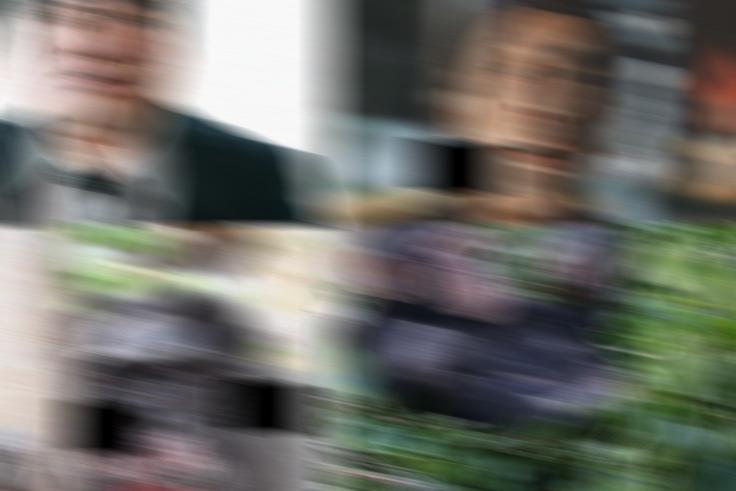chimpanzee: (343, 223, 666, 440), (0, 287, 339, 491)
human: (322, 0, 696, 226), (0, 0, 339, 226)
